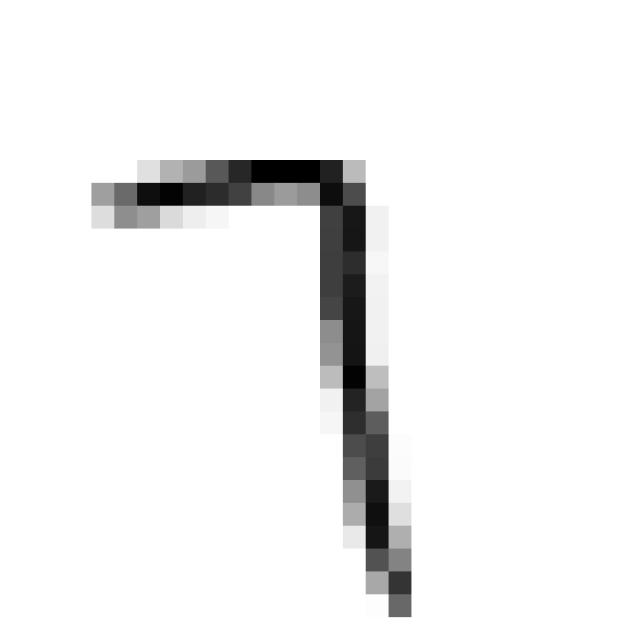6 -six-: (76, 144, 431, 635)
